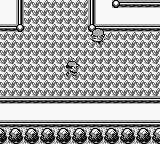captura: (0, 0, 159, 98)
main: (66, 62, 79, 72)
npc: (91, 29, 105, 41)
